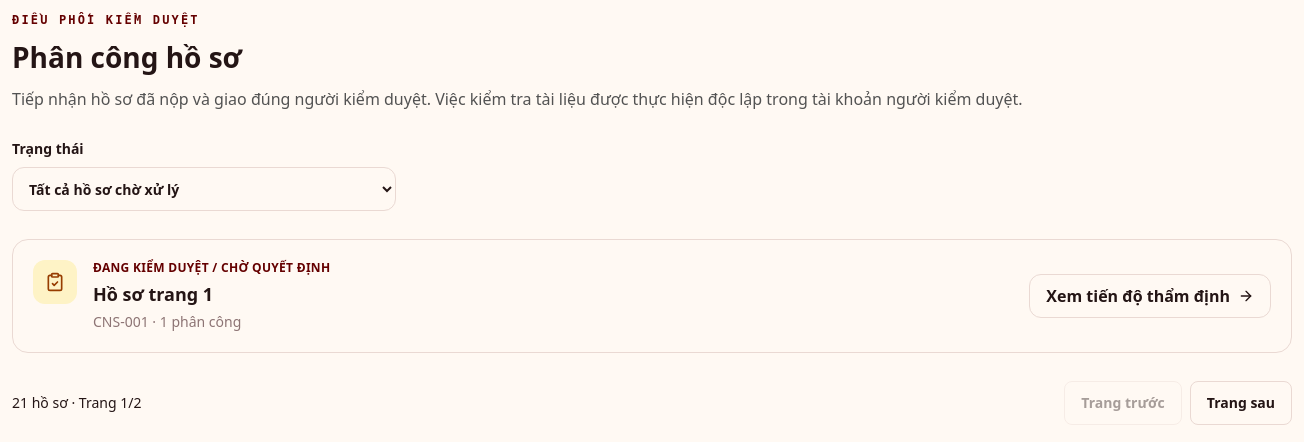
ReviewAssignmentQueue › keeps later admin queue pages reachable
Check: the heading "Hồ sơ trang 1" is shown, box [93,282,213,306]
Check: the link "Xem tiến độ thẩm định" is shown, box [1029,274,1271,318]
Step 1. Click the button "Trang sau" → (1241, 403), box [1190,381,1292,425]
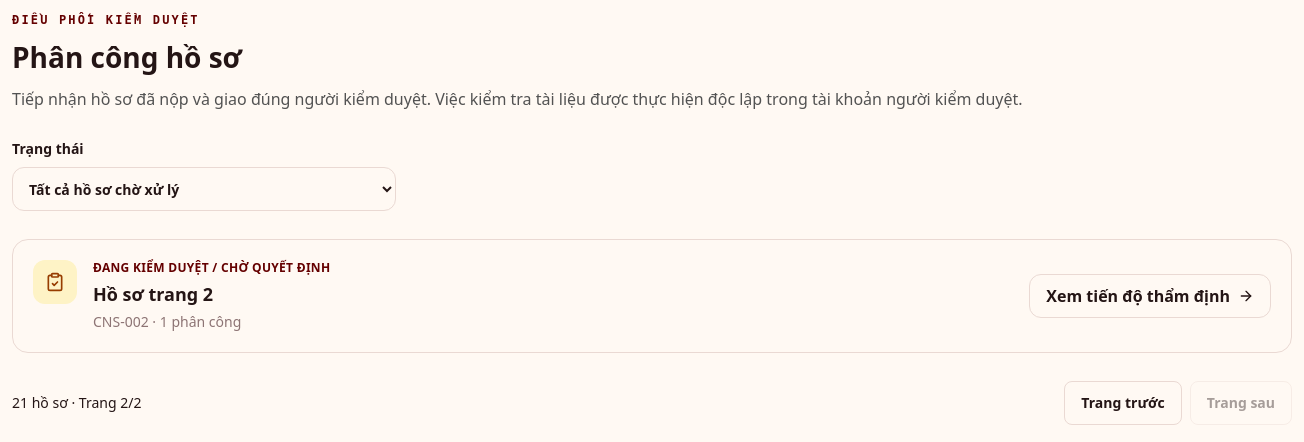
Check: the heading "Hồ sơ trang 2" is shown, box [93,282,213,306]
